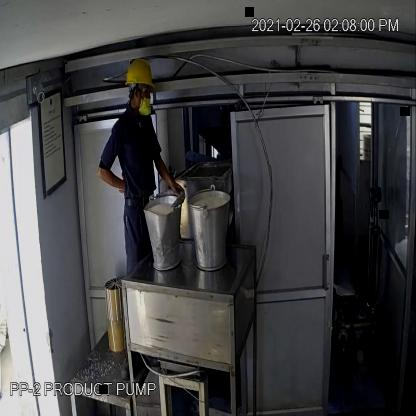helmet: (123, 54, 159, 95)
